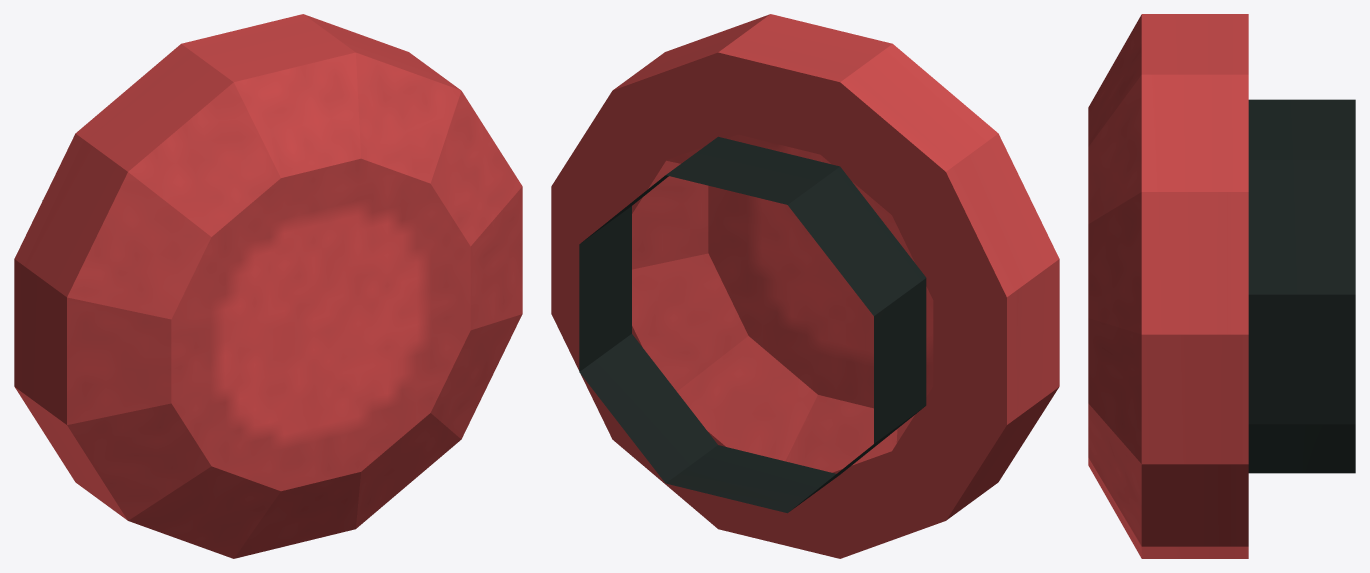
The model's file is SM_LabPanel_Button_Confirm_10x10x5.fbx.
3 renders of one model, left to right at view 1: azimuth 30°, elevation 25°; view 2: azimuth 150°, elevation 25°; view 3: azimuth 270°, elevation 25°, orthographic.
Visible parts, largest first — view 1: SM_LabPanel_Button_Confirm_10x10x5.001; view 2: SM_LabPanel_Button_Confirm_10x10x5.001; view 3: SM_LabPanel_Button_Confirm_10x10x5.001.
Boxes of the visible parts, <box> form: SM_LabPanel_Button_Confirm_10x10x5.001: <box>14,14,522,558</box>; SM_LabPanel_Button_Confirm_10x10x5.001: <box>551,14,1059,558</box>; SM_LabPanel_Button_Confirm_10x10x5.001: <box>1088,14,1355,558</box>.
Size of the model in its own units: 0.1 by 0.1 by 0.05.
